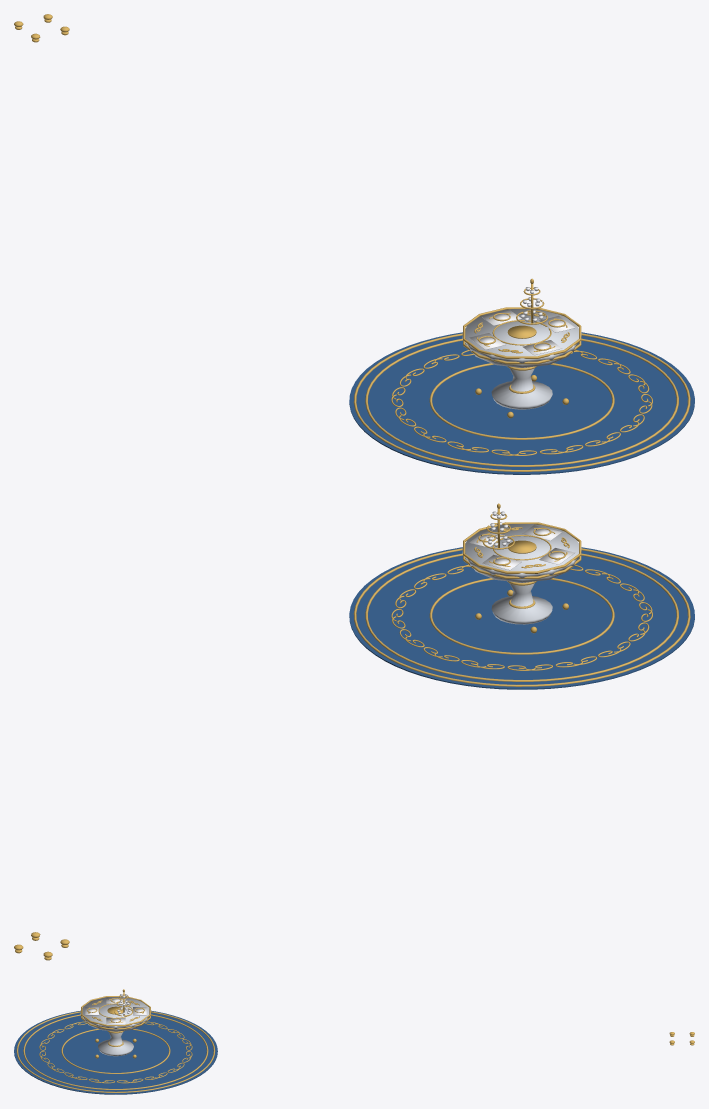
The model's file is KRM_STATIC_058.fbx.
The picture shows the model from 3 angles, top to bottom: view 1: azimuth 30°, elevation 25°; view 2: azimuth 150°, elevation 25°; view 3: azimuth 270°, elevation 25°; orthographic projection. The views are drawn at different scales.
Parts seen in each view (by area): view 1: KRM_STATIC_058; view 2: KRM_STATIC_058; view 3: KRM_STATIC_058.
Boxes of the visible parts, left/top/right/bottom form: KRM_STATIC_058: left=14, top=14, right=694, bottom=474; KRM_STATIC_058: left=14, top=503, right=694, bottom=960; KRM_STATIC_058: left=14, top=989, right=694, bottom=1094.
Bounding box in the file's own units: 360 × 131 × 1202.
1 material, 1 textured.
